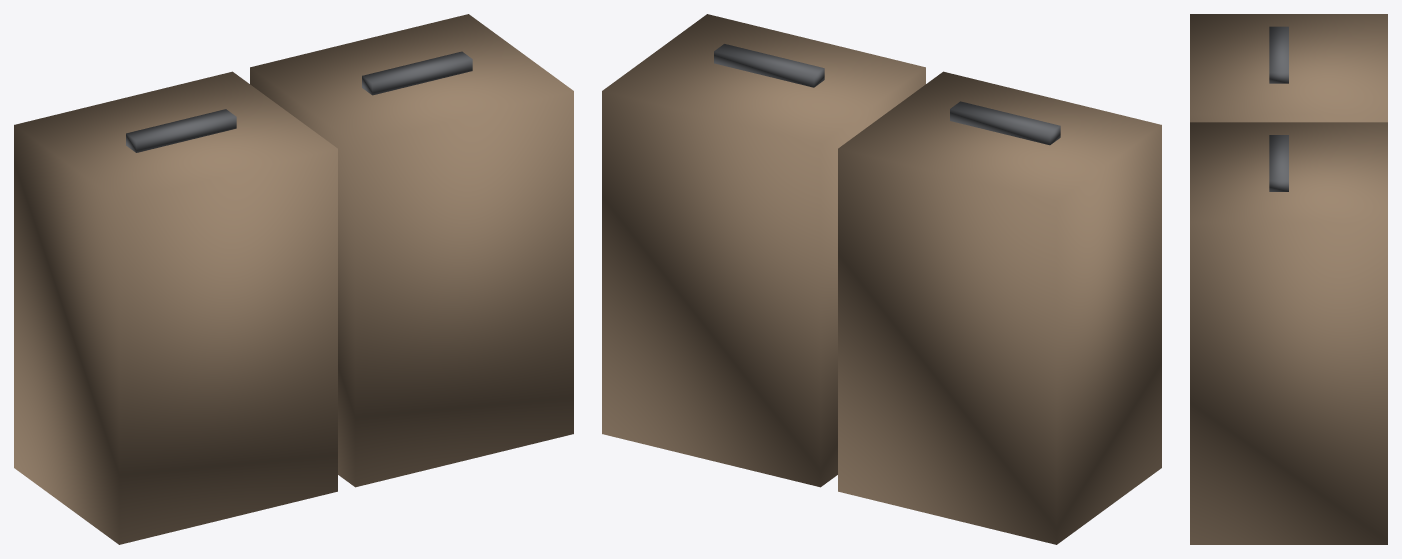
The model's file is donation_box__cluster.glb.
3 views of the same model, side by side, from view 1: azimuth 30°, elevation 25°; view 2: azimuth 150°, elevation 25°; view 3: azimuth 270°, elevation 25° (orthographic). The views are drawn at different scales.
Parts seen in each view (by area): view 1: world; view 2: world; view 3: world.
Boxes of the visible parts, x1,y1,x2,y2 form: world: [14, 14, 573, 544]; world: [602, 14, 1161, 544]; world: [1190, 14, 1387, 544].
Size of the model in its own units: 0.9984 by 0.7525 by 0.4.
